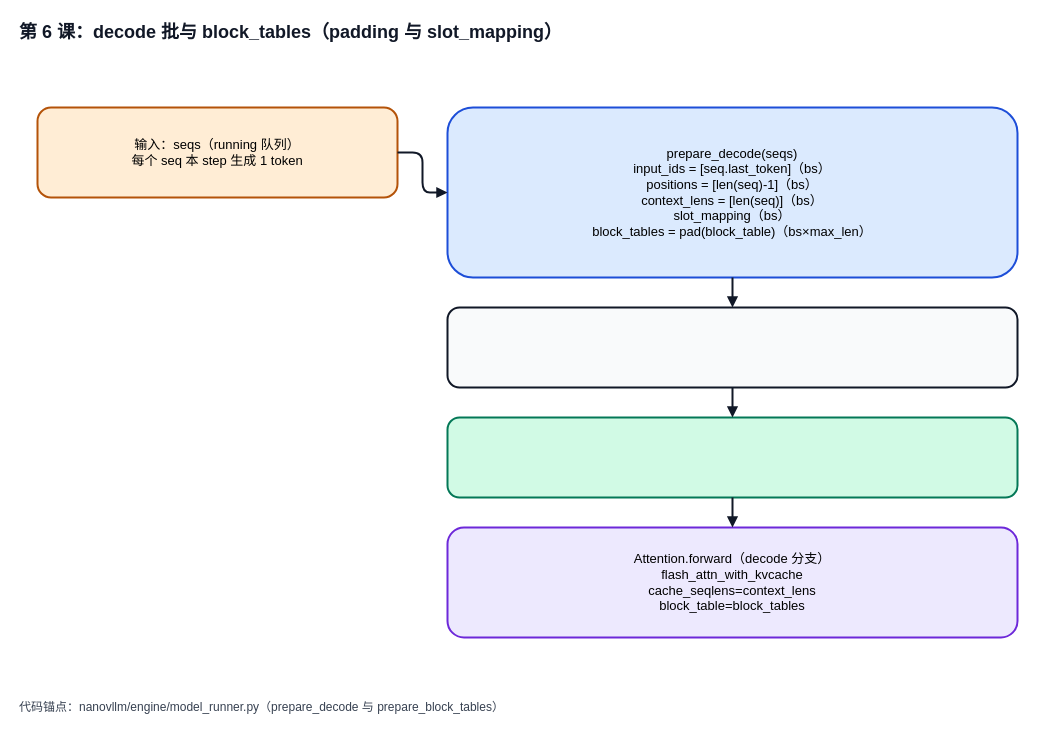
The diagram is 1054 pixels wide and 734 high, and some of its shapes have lost their labels. Here are the shapes that lost their labels. From the top down, the box of each, then its label:
(446, 306, 1018, 388): padding 规则 max_len = max(len(seq.block_table)) 不足部分用 -1 填充
(446, 416, 1018, 498): set_context(is_prefill=False, slot_mapping, context_lens, block_tables)
